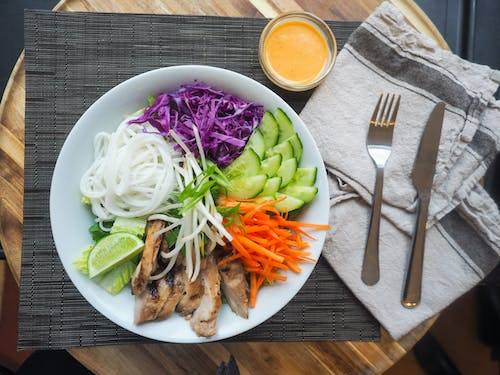knife: (400, 100, 446, 310)
